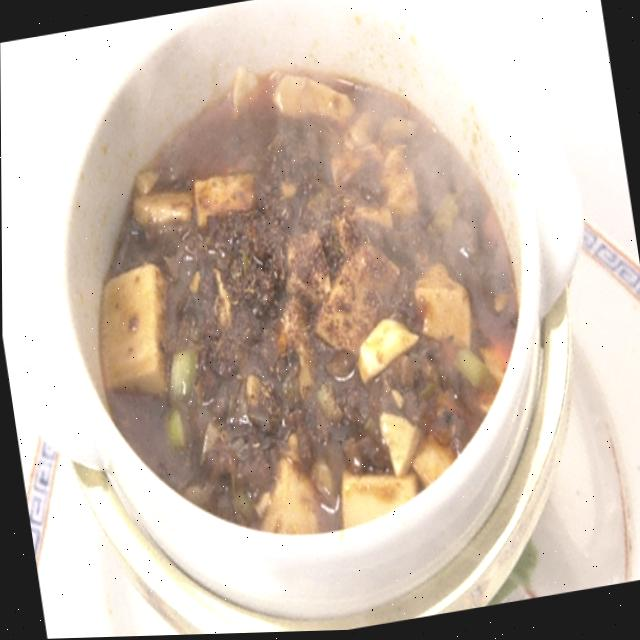豆腐料理: (0, 0, 593, 640)
